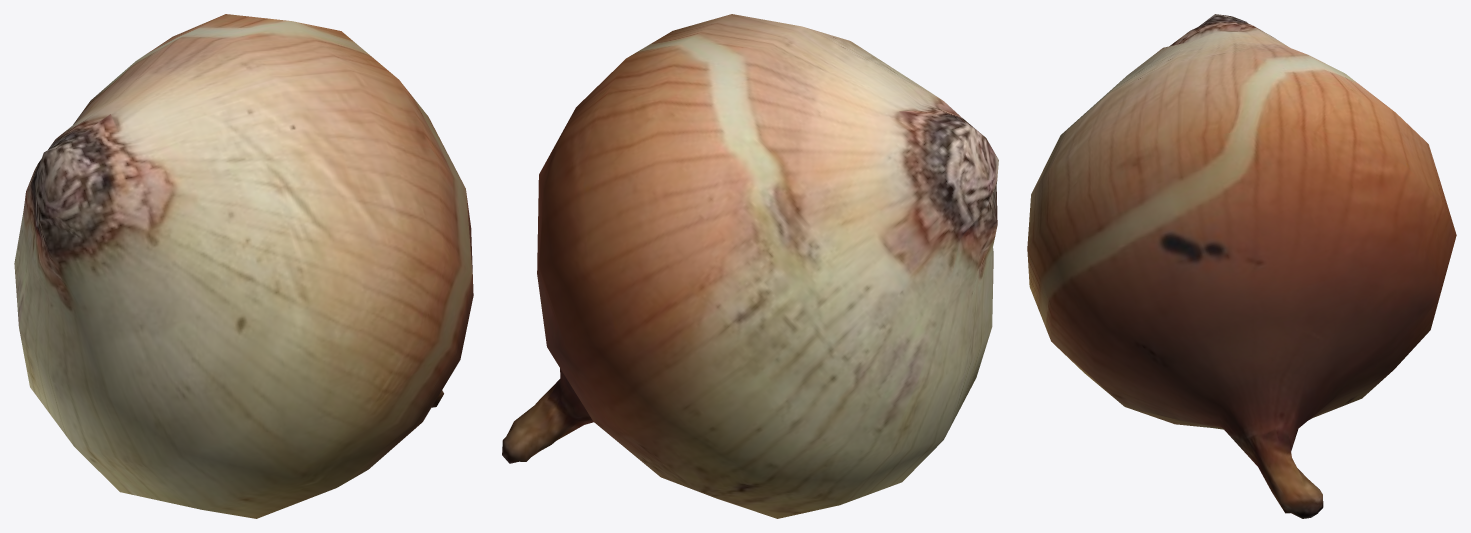
File: A70_Onion_low.fbx
3 renders of one model, left to right at view 1: azimuth 30°, elevation 25°; view 2: azimuth 150°, elevation 25°; view 3: azimuth 270°, elevation 25°, orthographic. The views are drawn at different scales.
Visible parts, largest first — view 1: A70_Onion_low; view 2: A70_Onion_low; view 3: A70_Onion_low.
Boxes of the visible parts, x1,y1,x2,y2 form: A70_Onion_low: (14, 14, 473, 518); A70_Onion_low: (502, 14, 998, 518); A70_Onion_low: (1027, 14, 1456, 518).
Size of the model in its own units: 6 by 5.99 by 5.8.
Materials: 1 (1 with a texture image).
